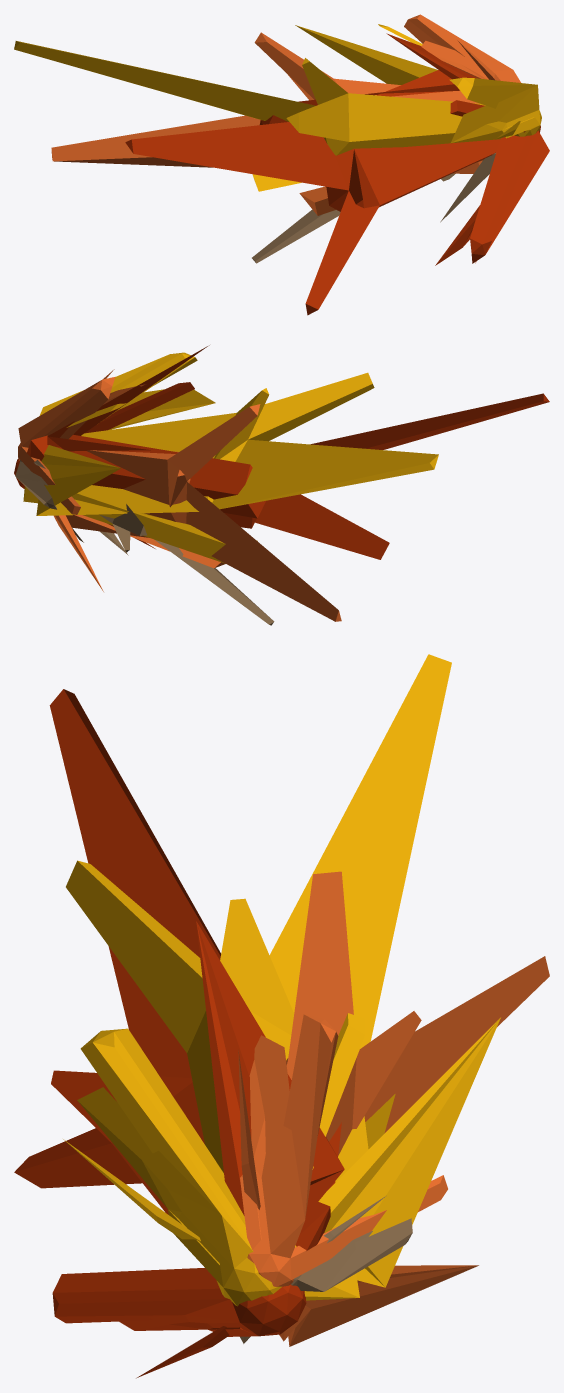
The model's file is Flames v1.fbx.
The picture shows the model from 3 angles, top to bottom: view 1: azimuth 30°, elevation 25°; view 2: azimuth 150°, elevation 25°; view 3: azimuth 270°, elevation 25°; orthographic projection. The views are drawn at different scales.
Parts seen in each view (by area): view 1: Icosphere.002, Icosphere.001, Icosphere, Icosphere.003; view 2: Icosphere.001, Icosphere, Icosphere.002, Icosphere.003; view 3: Icosphere.001, Icosphere.002, Icosphere, Icosphere.003.
Part boxes in pixels (x1=…): Icosphere.002: x1=125, y1=33, x2=549, y2=315; Icosphere.001: x1=14, y1=24, x2=541, y2=191; Icosphere: x1=51, y1=14, x2=520, y2=215; Icosphere.003: x1=252, y1=153, x2=495, y2=263; Icosphere.001: x1=23, y1=352, x2=438, y2=563; Icosphere: x1=18, y1=369, x2=341, y2=621; Icosphere.002: x1=14, y1=345, x2=549, y2=559; Icosphere.003: x1=15, y1=459, x2=274, y2=625; Icosphere.001: x1=63, y1=654, x2=500, y2=1306; Icosphere.002: x1=14, y1=689, x2=344, y2=1378; Icosphere: x1=238, y1=871, x2=549, y2=1346; Icosphere.003: x1=240, y1=1195, x2=412, y2=1343.
Size of the model in its own units: 970 by 491 by 567.
